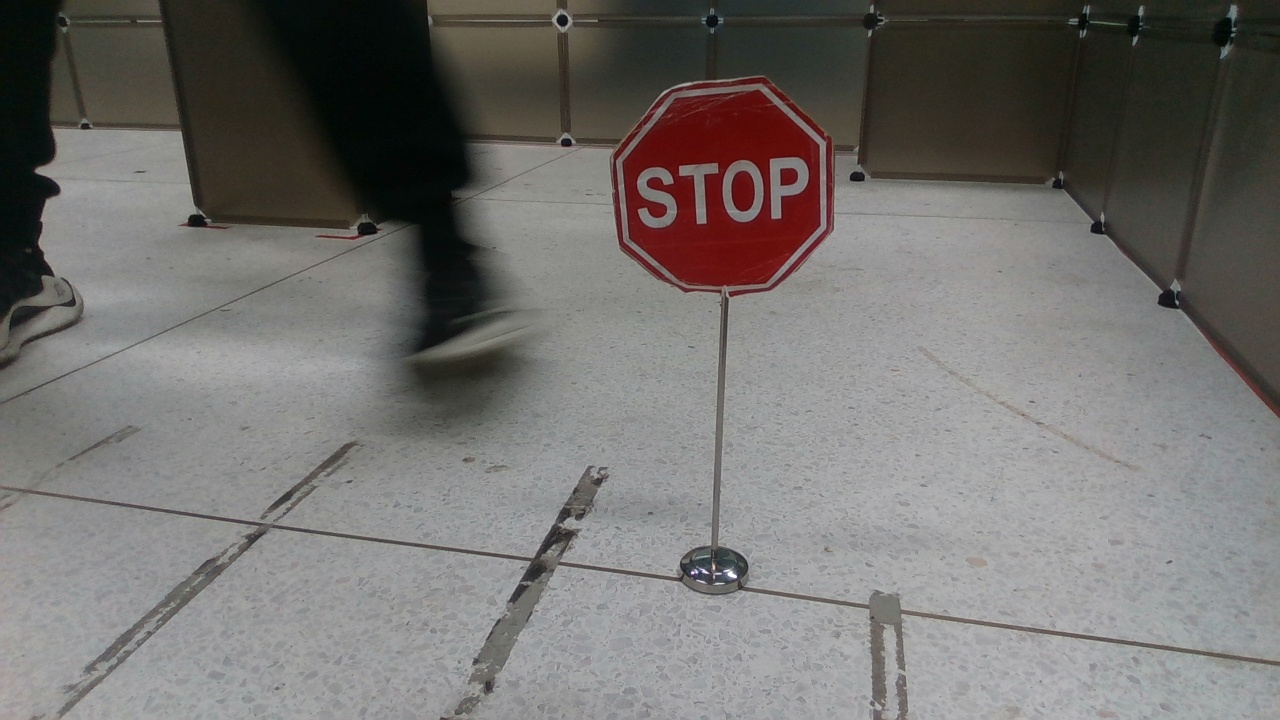Stop sign: (605, 71, 835, 297)
